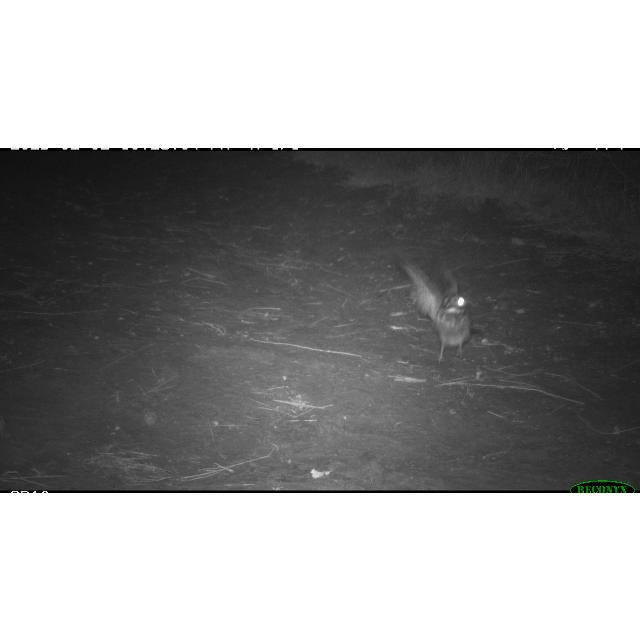animals: (397, 253, 471, 364)
